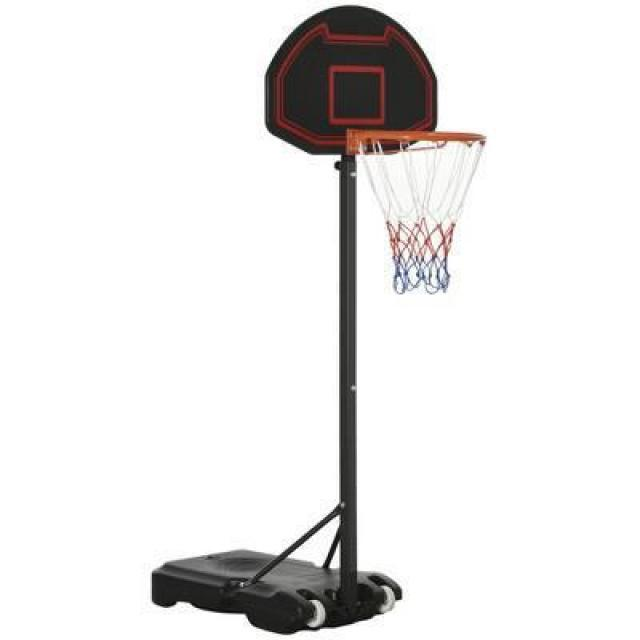hoop: (357, 132, 487, 296)
